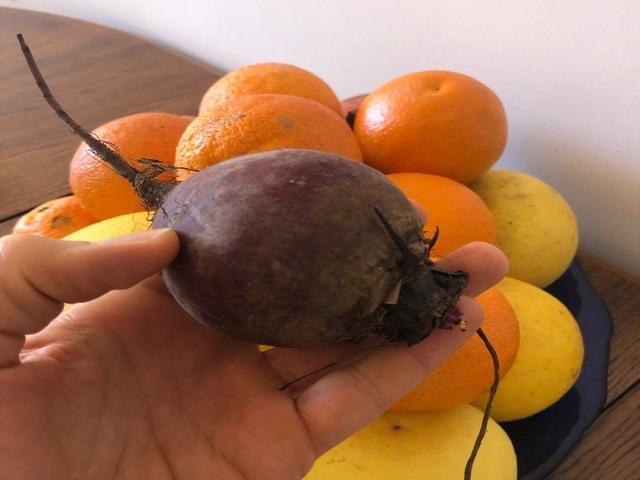beet: (17, 33, 461, 347)
